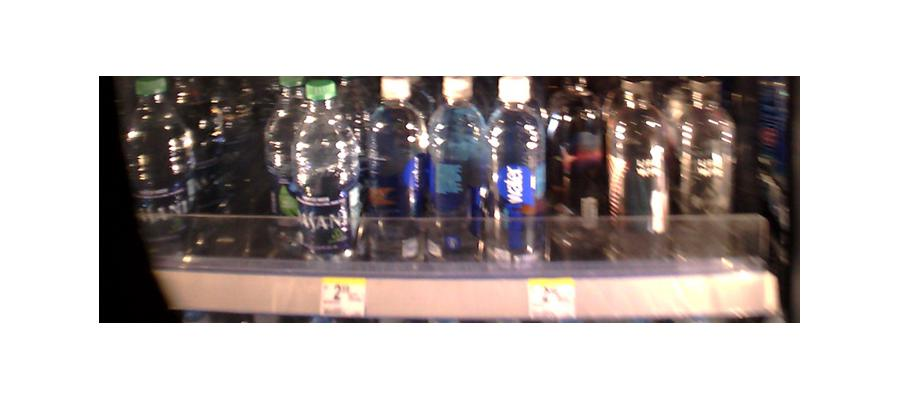bottle: (281, 76, 356, 260), (120, 90, 189, 263), (360, 83, 427, 257), (426, 82, 489, 261), (609, 81, 671, 257), (487, 81, 545, 264), (552, 77, 606, 249), (677, 87, 737, 235)
